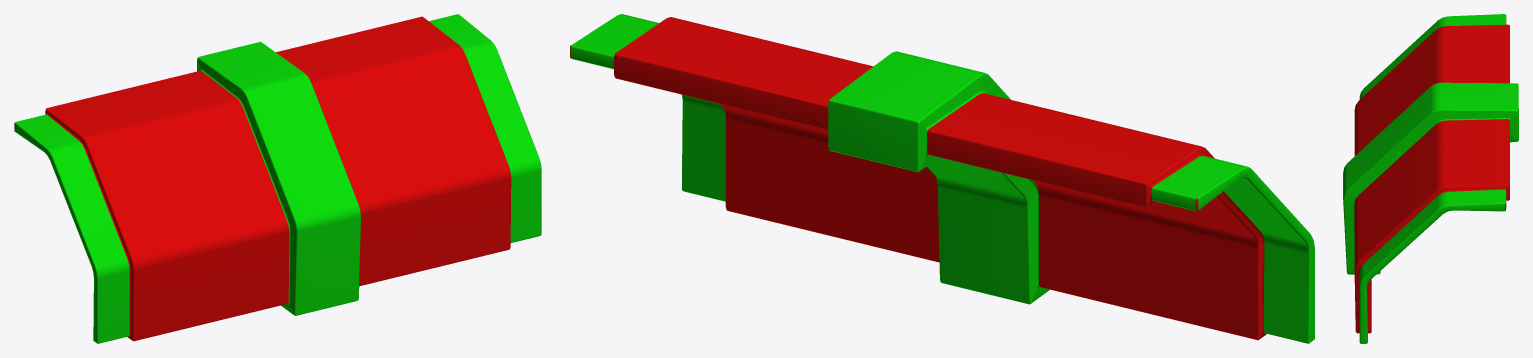
The model's file is Ceiling_Transition.fbx.
The picture shows the model from 3 angles, left to right: view 1: azimuth 30°, elevation 25°; view 2: azimuth 150°, elevation 25°; view 3: azimuth 270°, elevation 25°; orthographic projection. The views are drawn at different scales.
Parts seen in each view (by area): view 1: Ceiling_Transition; view 2: Ceiling_Transition; view 3: Ceiling_Transition.
Part boxes in pixels (box(x1,y1,x2,y2)): Ceiling_Transition: box(14, 14, 541, 343); Ceiling_Transition: box(570, 14, 1314, 343); Ceiling_Transition: box(1343, 14, 1518, 343).
Size of the model in its own units: 400 by 162 by 157.
